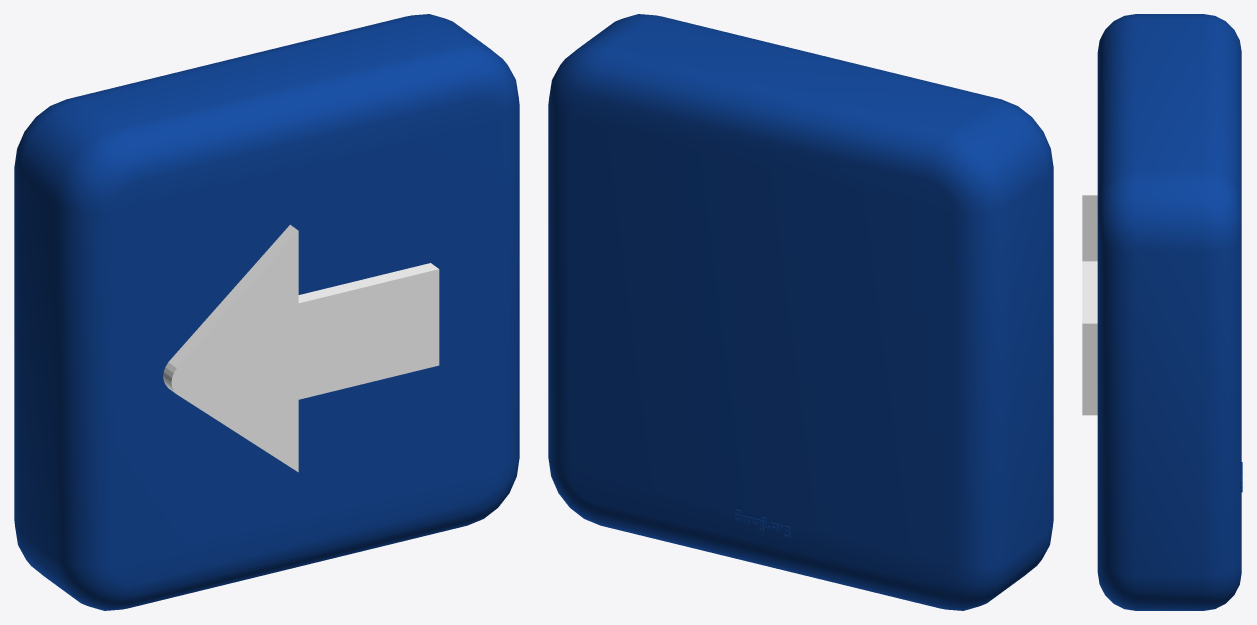
File: left_arrow.fbx
The picture shows the model from 3 angles, left to right: view 1: azimuth 30°, elevation 25°; view 2: azimuth 150°, elevation 25°; view 3: azimuth 270°, elevation 25°; orthographic projection. The views are drawn at different scales.
Parts seen in each view (by area): view 1: Cube.6324; view 2: Cube.6324; view 3: Cube.6324.
Boxes of the visible parts, bbox=[...] form: Cube.6324: bbox=[14, 14, 519, 610]; Cube.6324: bbox=[548, 14, 1053, 610]; Cube.6324: bbox=[1082, 14, 1242, 610].
Bounding box in the file's own units: 220 × 220 × 73.37.
1 material, 1 textured.
